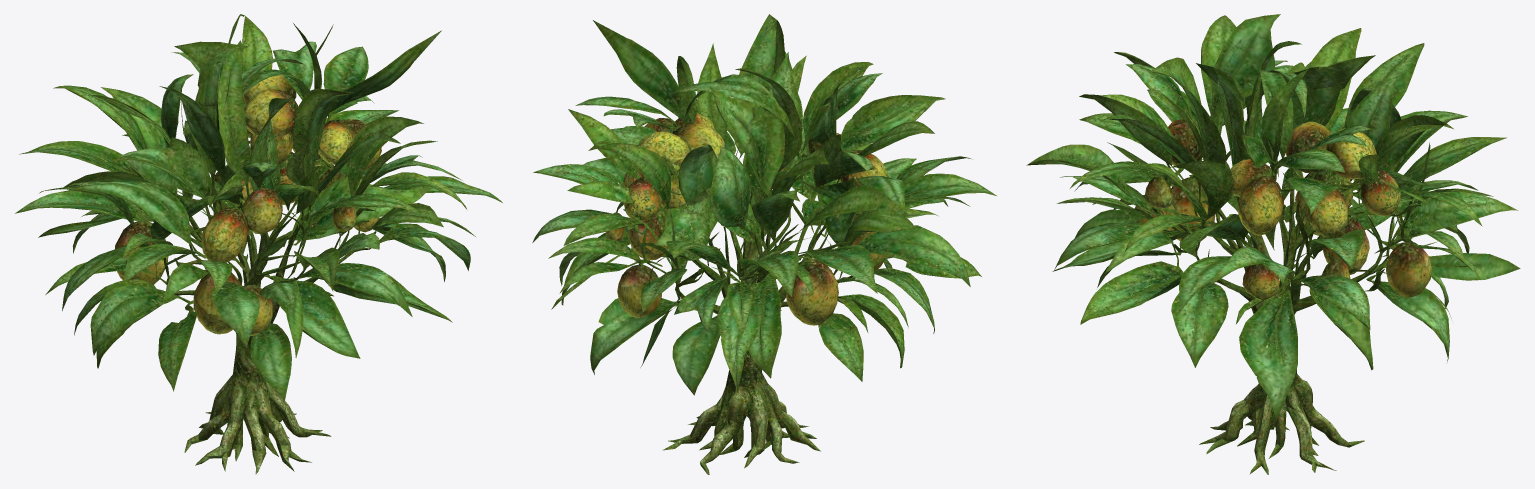
The model's file is plant-mango-final.glb.
The picture shows the model from 3 angles, left to right: view 1: azimuth 30°, elevation 25°; view 2: azimuth 150°, elevation 25°; view 3: azimuth 270°, elevation 25°; orthographic projection. The views are drawn at different scales.
Visible parts, largest first — view 1: output_unwrapped; view 2: output_unwrapped; view 3: output_unwrapped.
Boxes of the visible parts, x1,y1,x2,y2 form: output_unwrapped: (15,14,502,474); output_unwrapped: (532,14,996,474); output_unwrapped: (1026,14,1520,474).
Size of the model in its own units: 3.26 by 3 by 3.34.
1 material, 1 textured.
